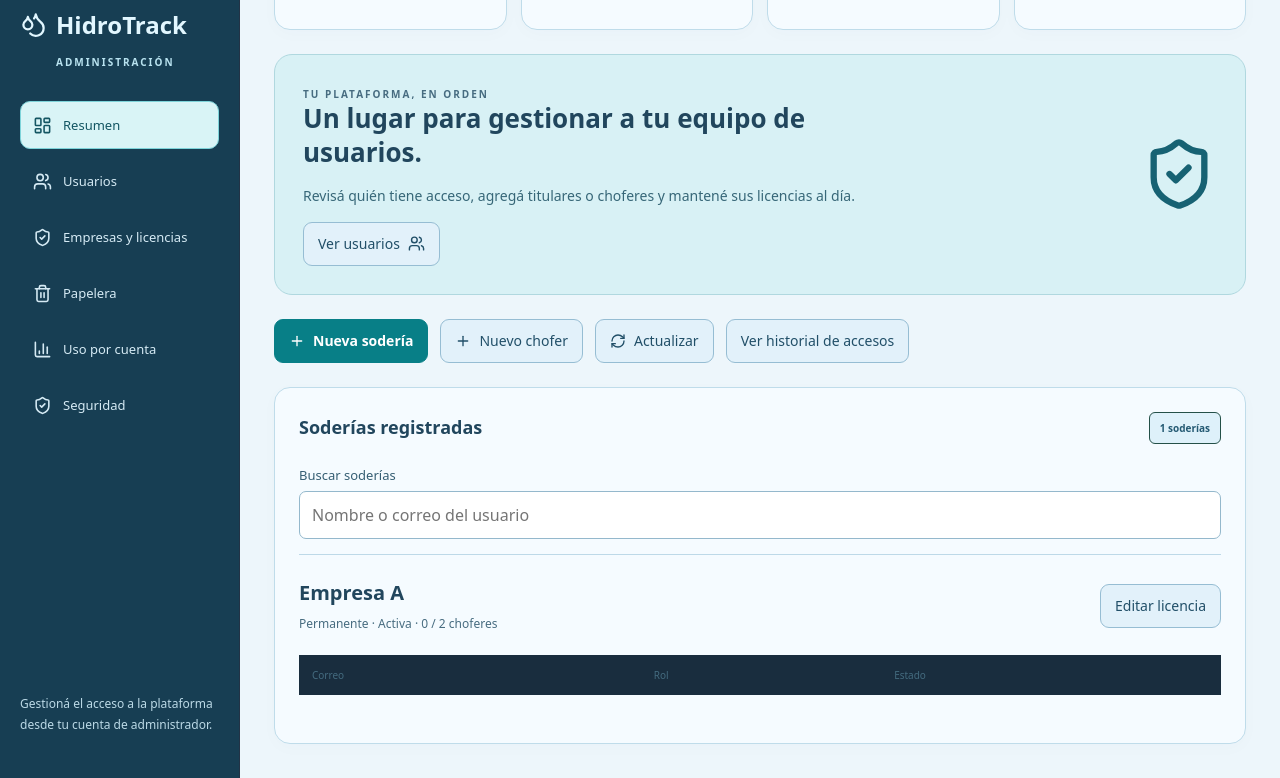
Test: guarda la licencia solo para la empresa seleccionada y vuelve a consultar el directorio
(page scrolled)
Step 1. Click the button "Editar licencia" → (1160, 606), box [1100,584,1221,628]
(page scrolled)
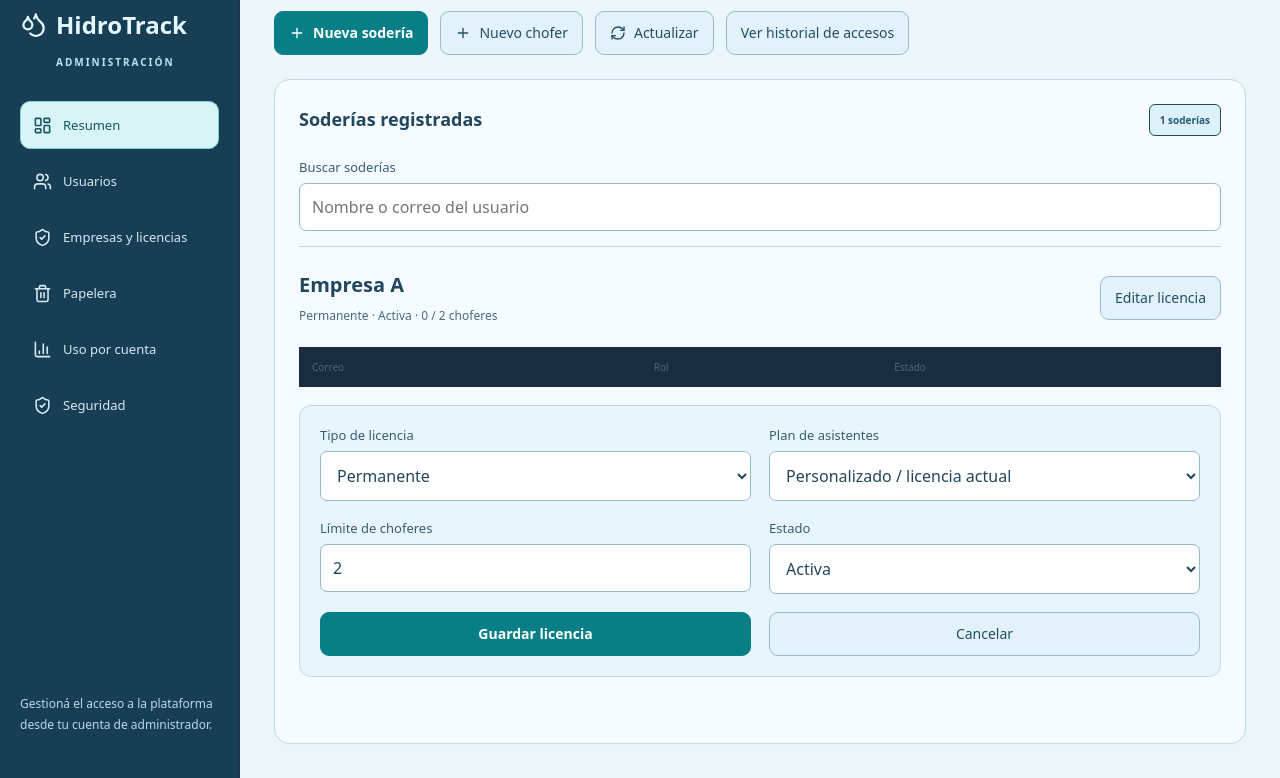
Step 2. Select "Suspendida" in the dropdown labelled "Estado" → (984, 569), box [769,544,1200,594]
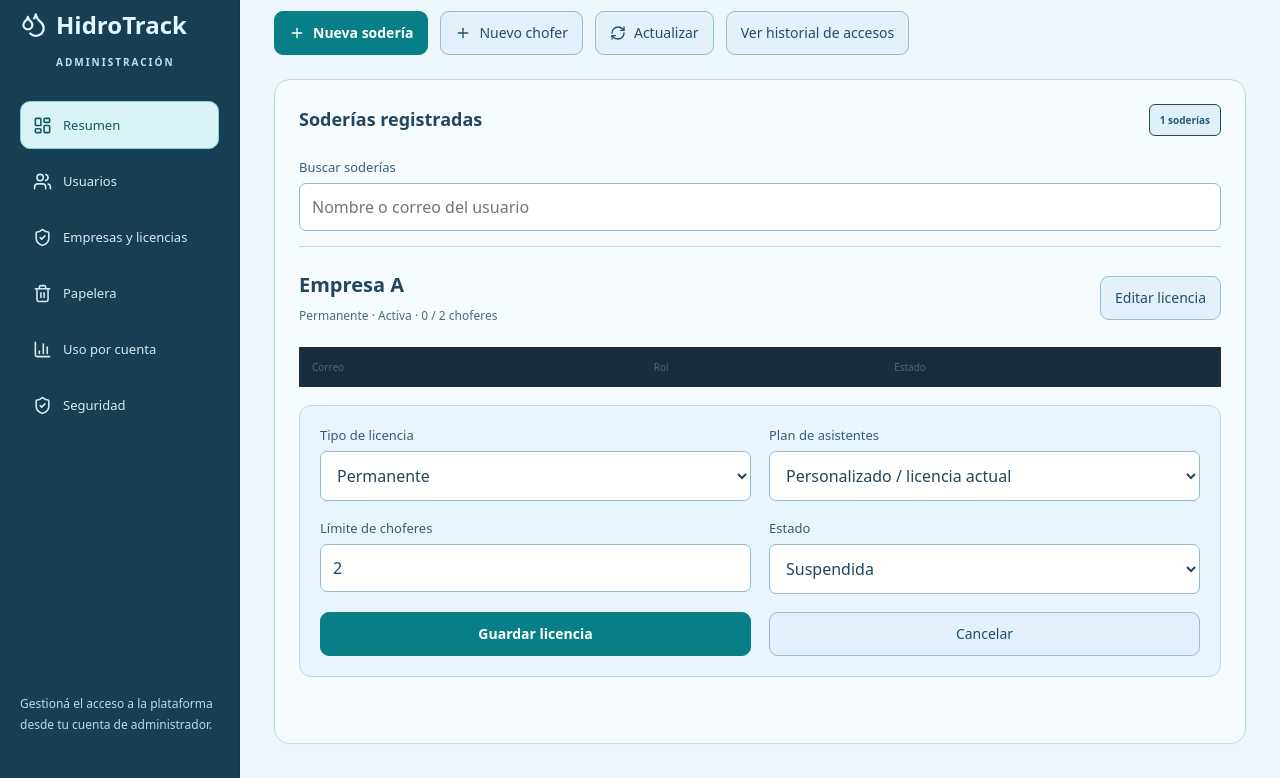
Step 3. Click the button "Guardar licencia" → (536, 634), box [320,612,751,656]
(page scrolled)
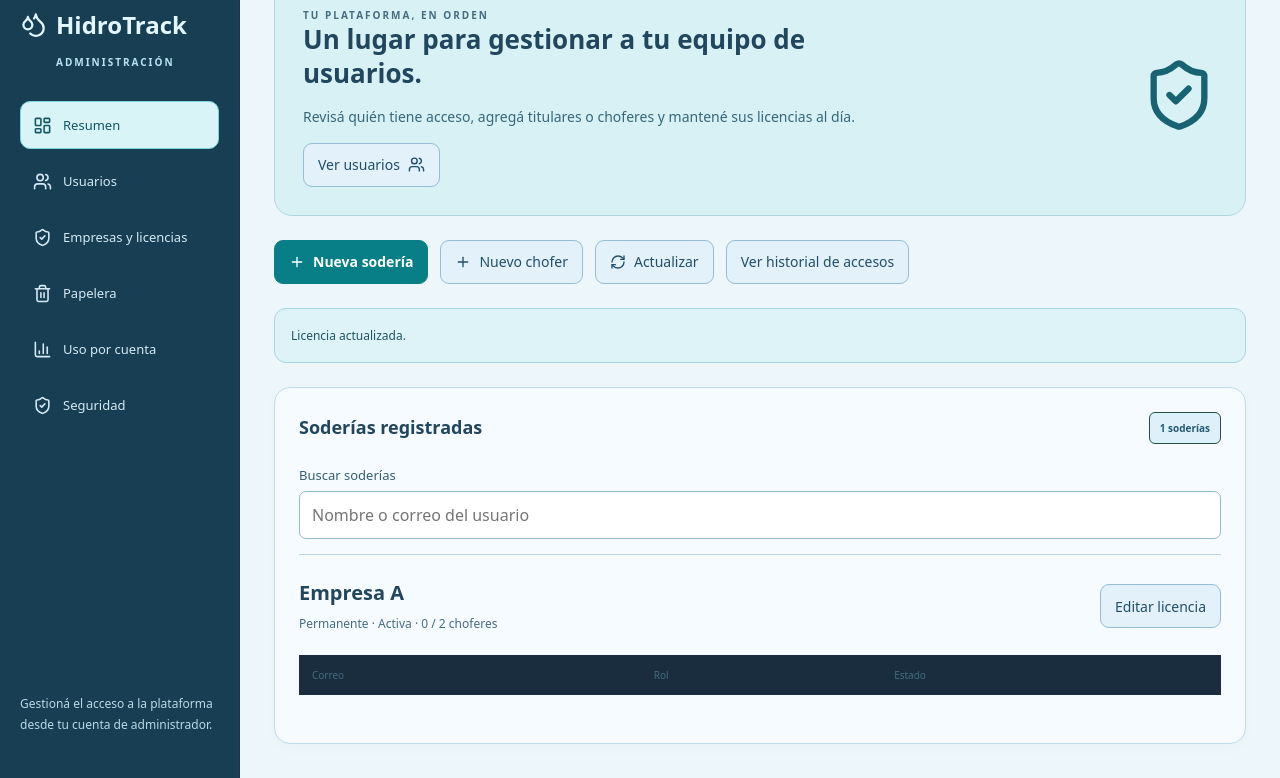
Expected: the text "Licencia actualizada." is shown, [274,308,1246,363]
